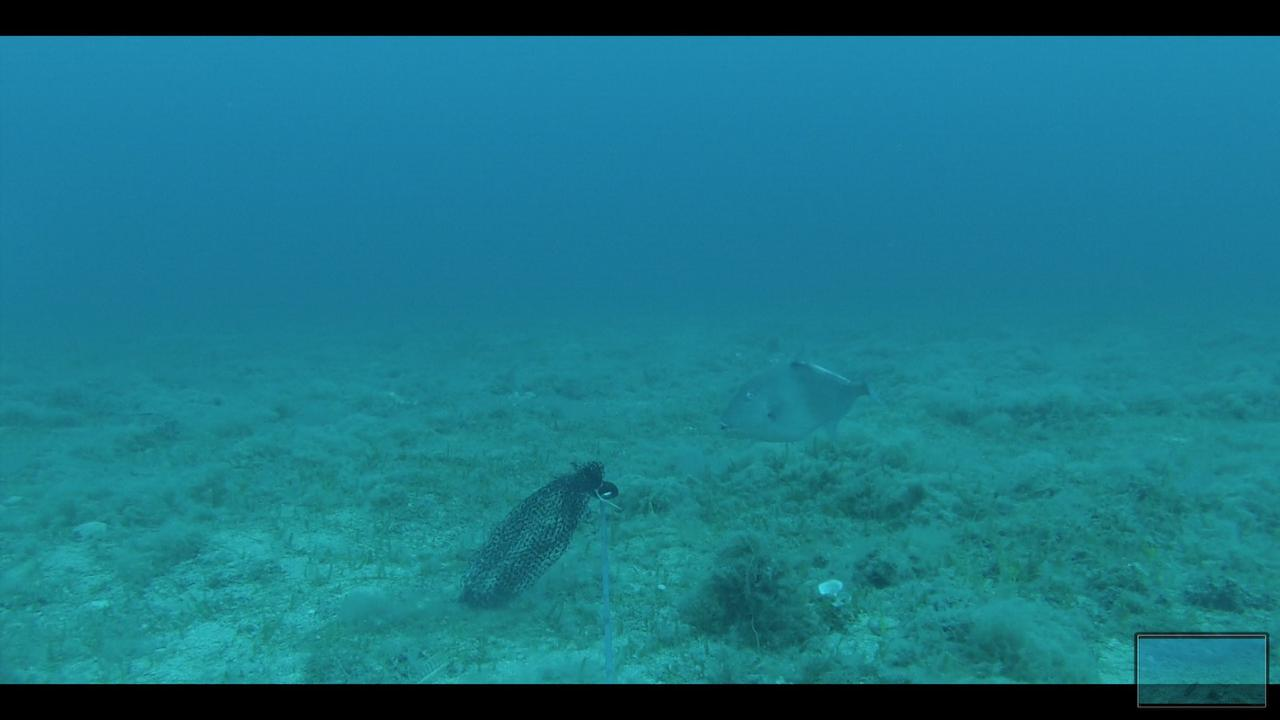balistes: (711, 332, 911, 457)
